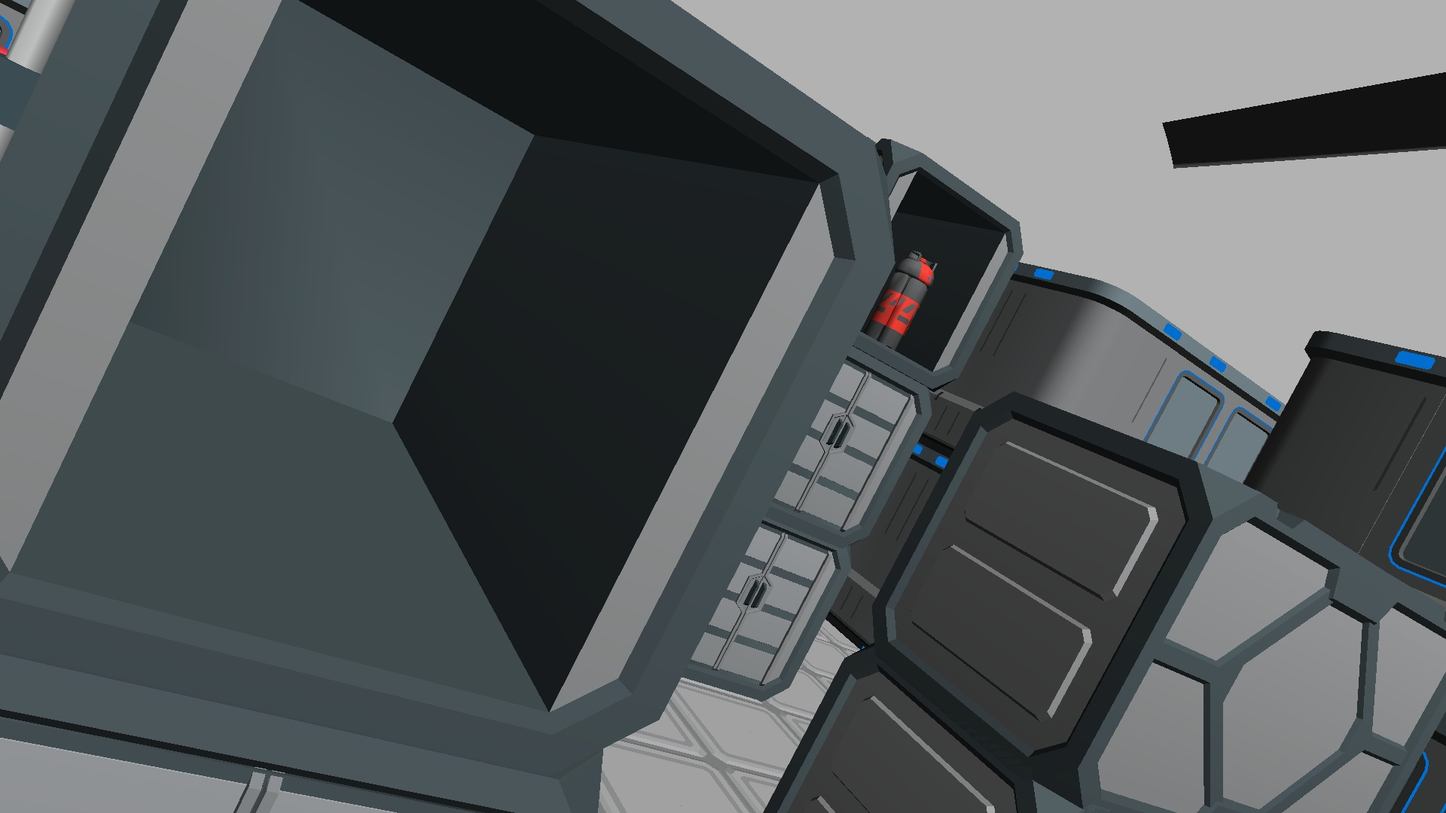red barrel: (860, 250, 938, 351)
